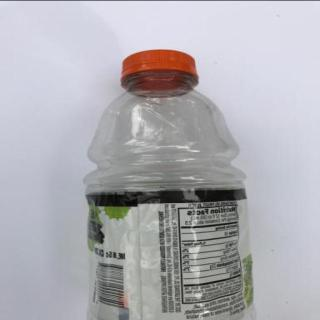Anorganik: (80, 43, 266, 320)
